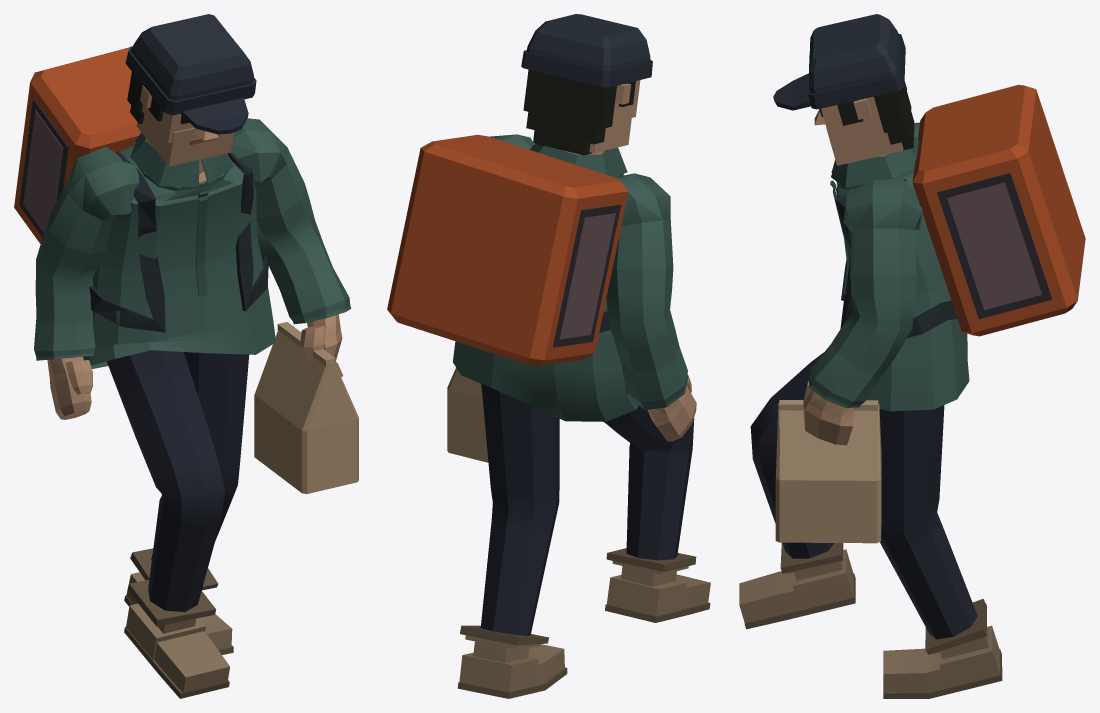
The model's file is delivery-courier-327e30__walk3.glb.
The picture shows the model from 3 angles, left to right: view 1: azimuth 30°, elevation 25°; view 2: azimuth 150°, elevation 25°; view 3: azimuth 270°, elevation 25°; orthographic projection.
Parts seen in each view (by area): view 1: delivery-courier-327e30__walk3; view 2: delivery-courier-327e30__walk3; view 3: delivery-courier-327e30__walk3.
Part boxes in pixels (<box>): delivery-courier-327e30__walk3: <box>14,14,358,698</box>; delivery-courier-327e30__walk3: <box>387,14,710,698</box>; delivery-courier-327e30__walk3: <box>739,14,1085,698</box>.
Bounding box in the file's own units: 0.7733 × 1.76 × 0.8567.
